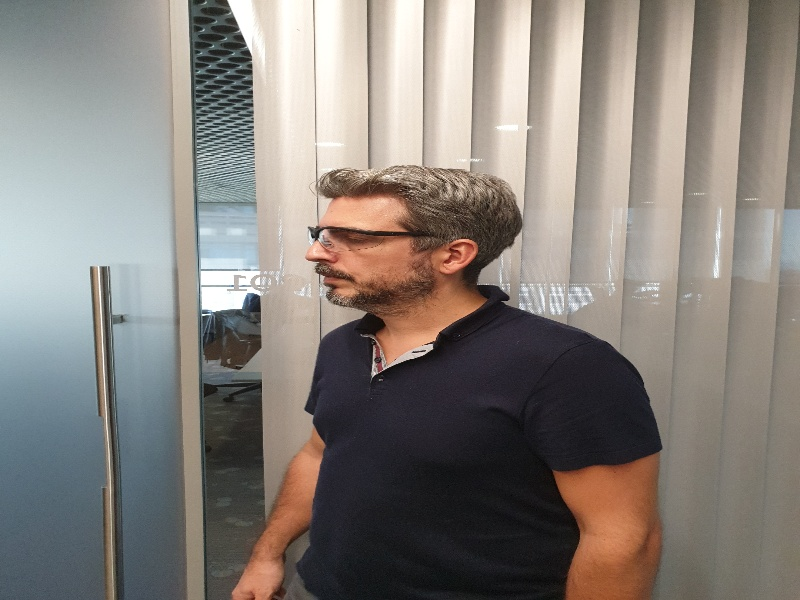Gozluk: (309, 224, 419, 249)
